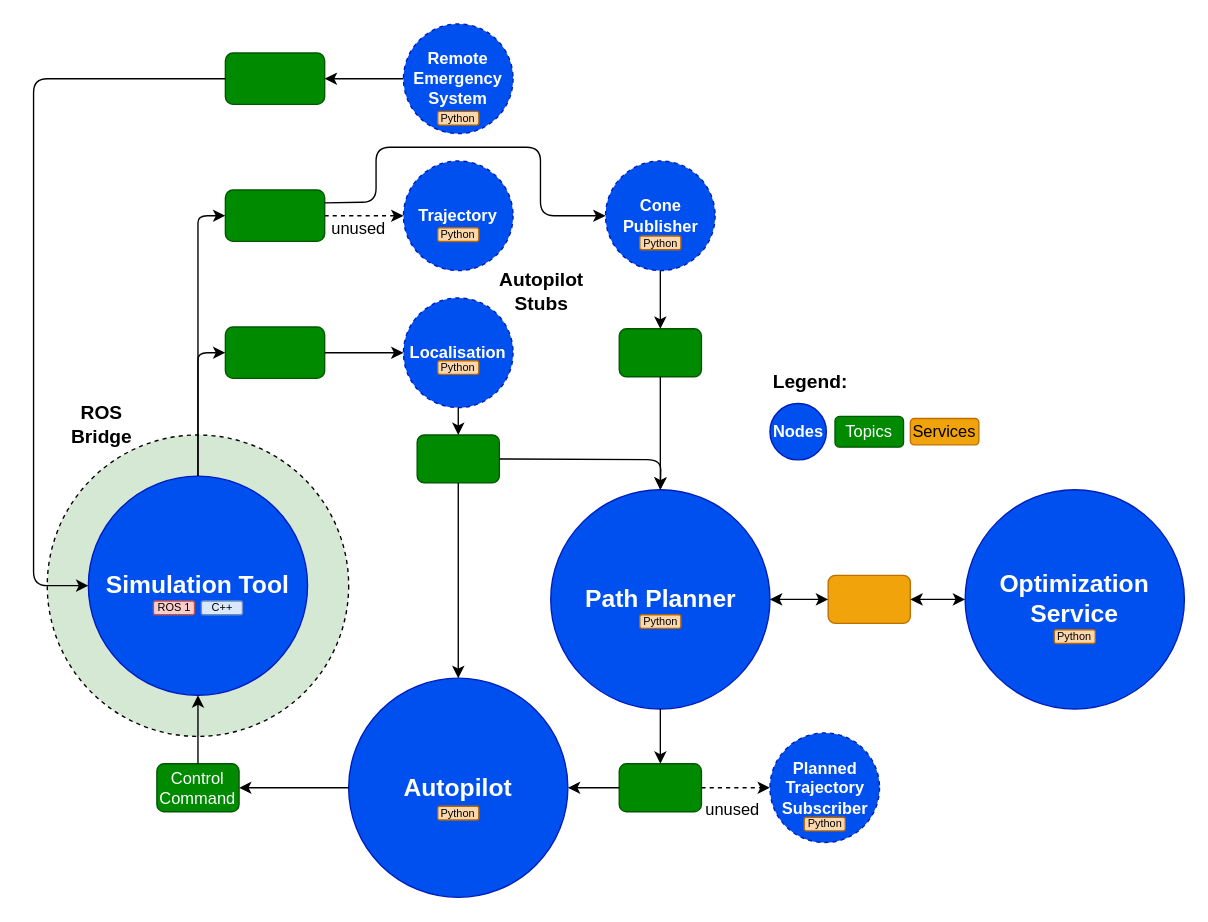
The diagram is 1208 pixels wide and 922 high, and some of its shapes have lost their labels. Here are the shapes that lost their labels. From the top down, the centre of each, then its label:
[274,78]: Go Signal
[274,215]: testing_only Track
[274,352]: testing_only Odometry
[659,352]: Cone
[457,458]: Current Position
[868,598]: Optimize Path
[659,787]: Planned Trajectory
